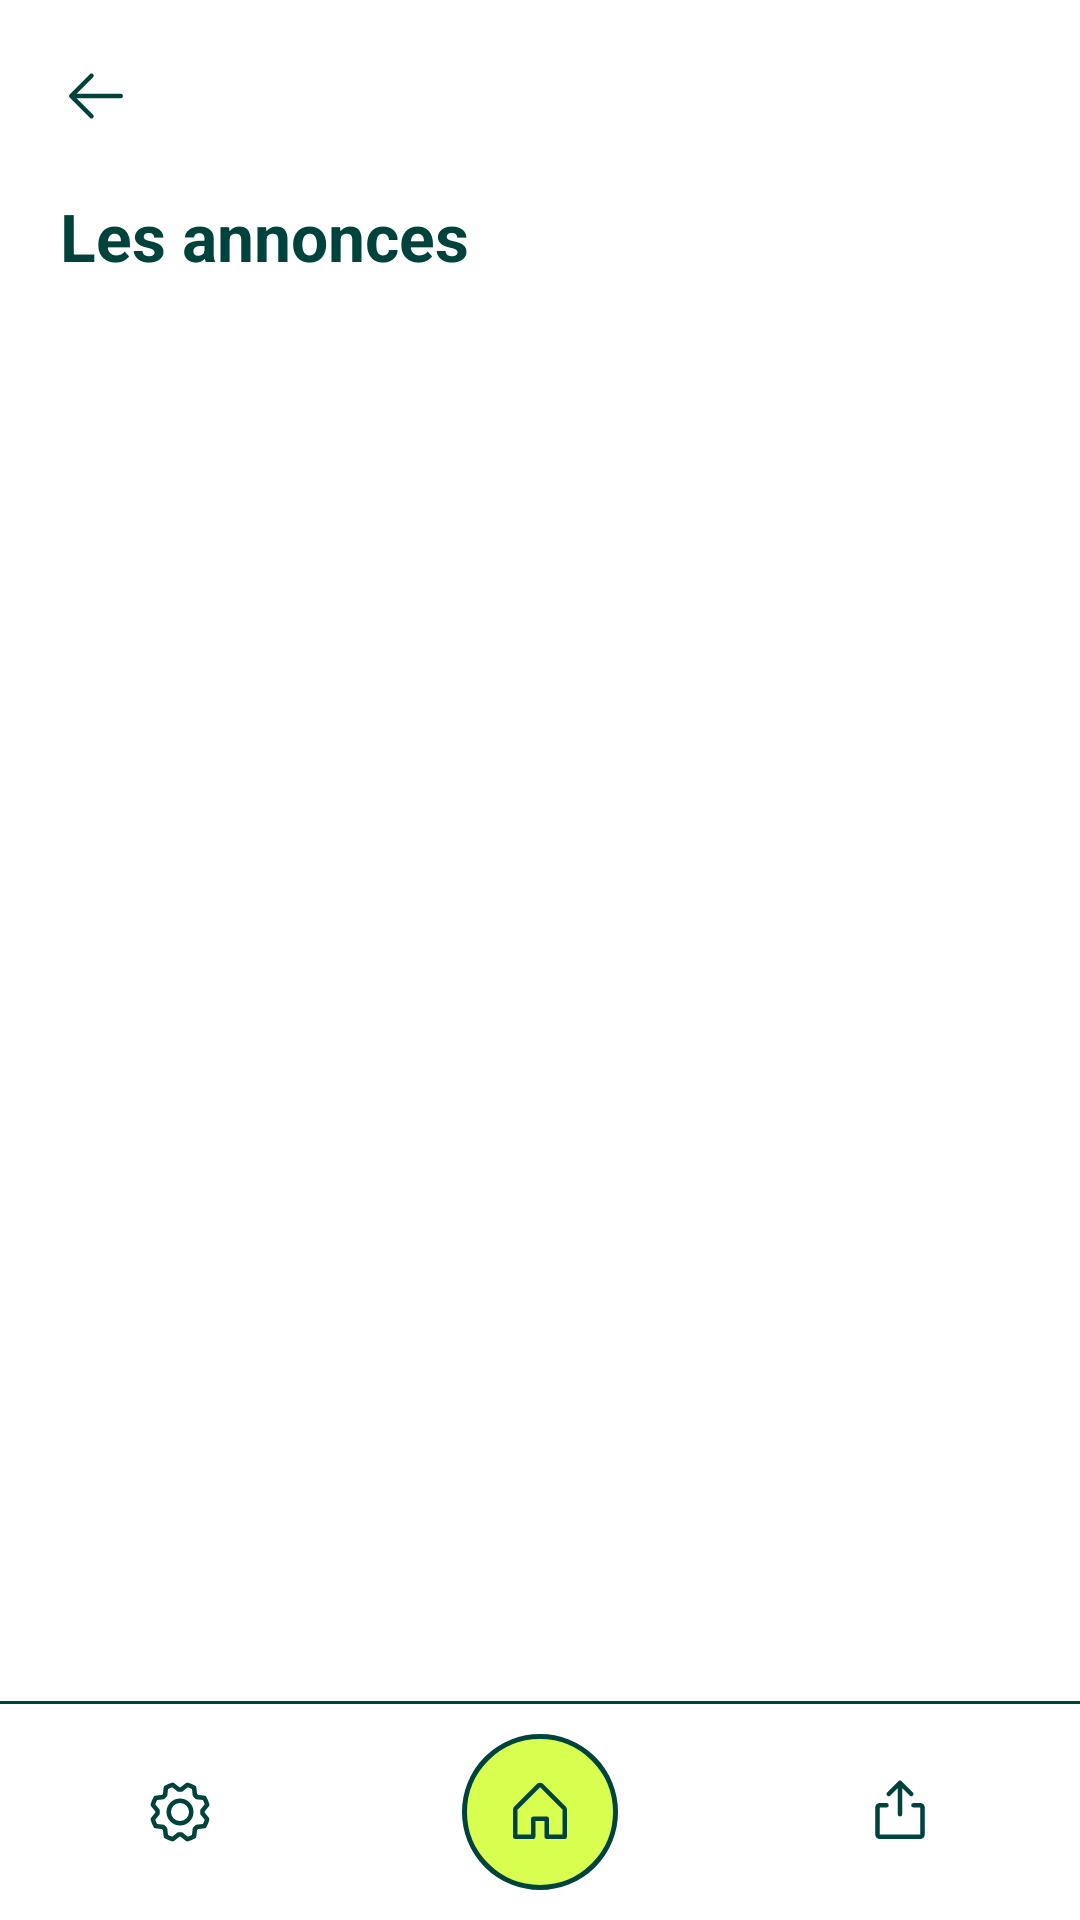

Point at icon controls on the screen. Image size 1080*1920, points as point (x, y).
Accueil: point (540, 1812)
Paramètres: point (180, 1812)
Partager: point (900, 1809)
Retour: point (96, 96)
